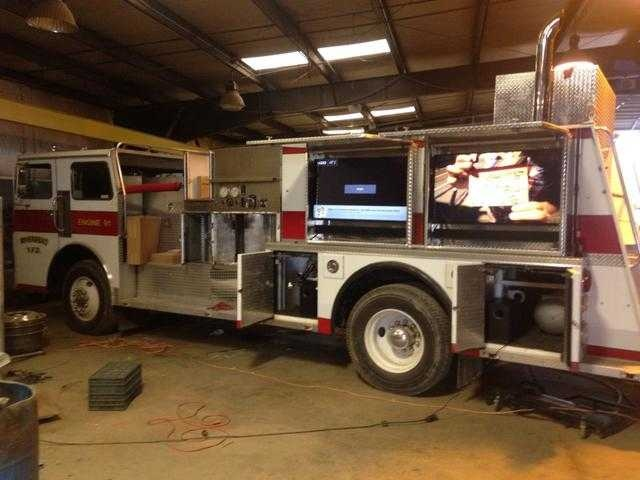Fire Truck: (13, 129, 601, 403)
